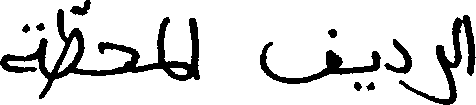ا: (460, 12, 474, 76), (188, 16, 199, 81)
ة: (0, 20, 43, 75)
ح: (99, 40, 138, 77)
د: (384, 37, 412, 77)
ر: (427, 42, 455, 103)
ط: (51, 0, 84, 86)
ف: (257, 26, 342, 84)
ل: (155, 15, 173, 70), (453, 14, 462, 71)
م: (164, 59, 190, 83)
ي: (352, 49, 380, 93)
